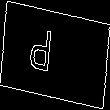P_S: (42, 27, 68, 83)
